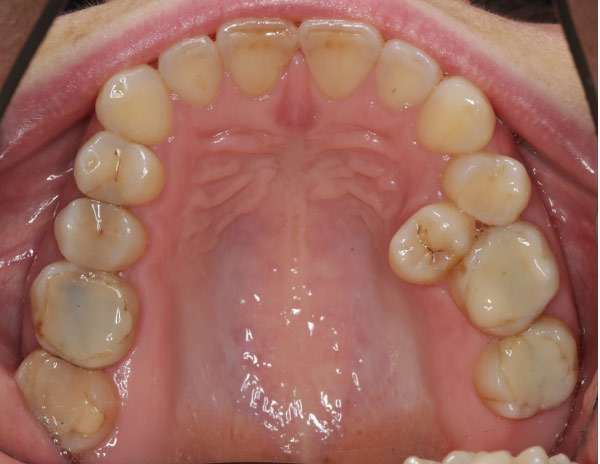UL1BC_healthy: (451, 152, 529, 221)
UL1M_healthy: (464, 325, 581, 412)
UL2BC_healthy: (460, 227, 560, 330)
ULCI_healthy: (302, 16, 380, 97)
ULC_healthy: (421, 80, 495, 156)
ULLI_healthy: (383, 43, 438, 112)
UR1BC_healthy: (75, 132, 171, 207)
UR1M_healthy: (35, 267, 141, 363)
UR2BC_healthy: (51, 199, 150, 272)
UR2M_healthy: (23, 357, 117, 445)
URCI_healthy: (222, 18, 296, 93)
URC_healthy: (95, 63, 172, 139)
URLI_healthy: (163, 40, 219, 103)
